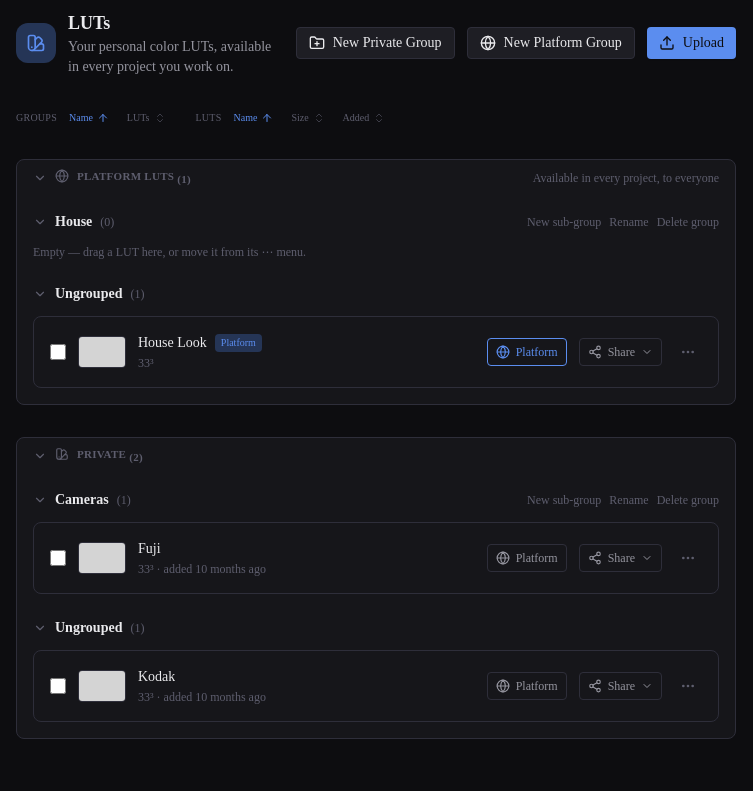
Test: move to group › offers platform groups for a platform selection
Click the checkbox named "Select House Look": (58, 352) [50, 344, 66, 360]
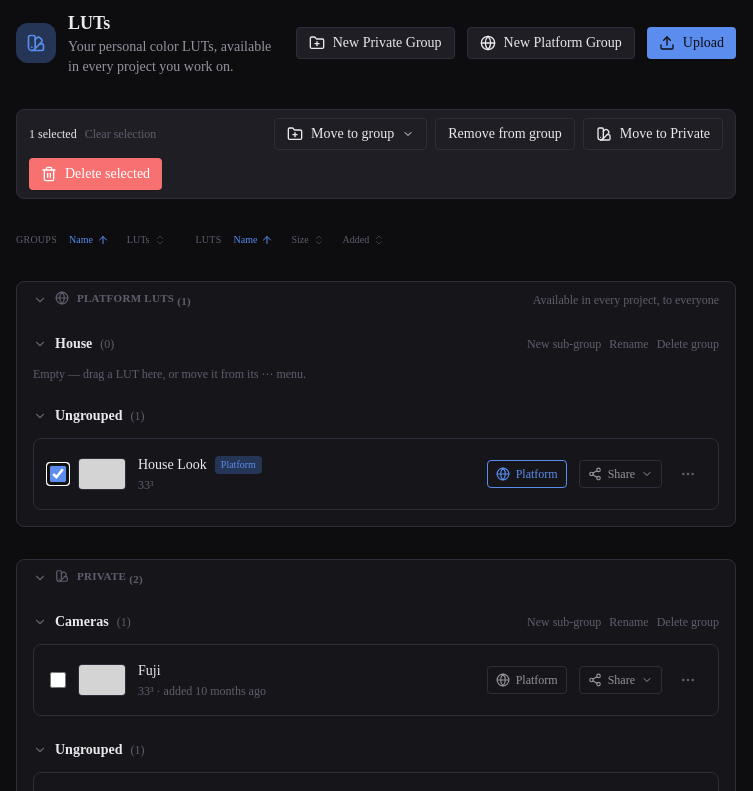
Click the button "Move to group": (351, 134) [274, 118, 427, 150]
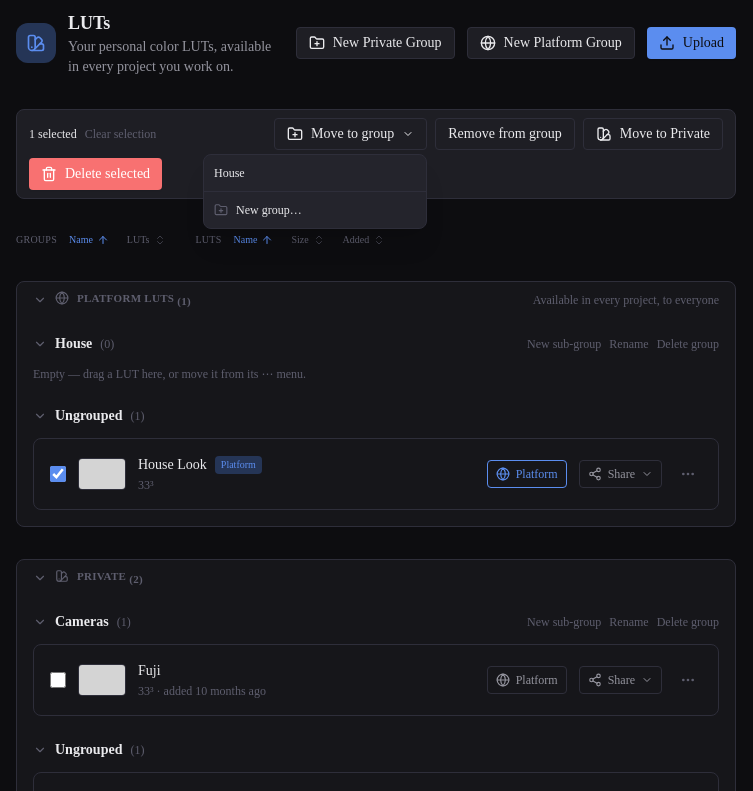
Check: the 1st text "House" is shown, box [214, 165, 245, 181]
